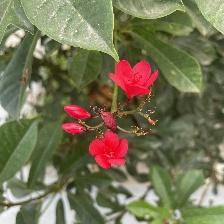jatropha: (89, 131, 131, 169)
